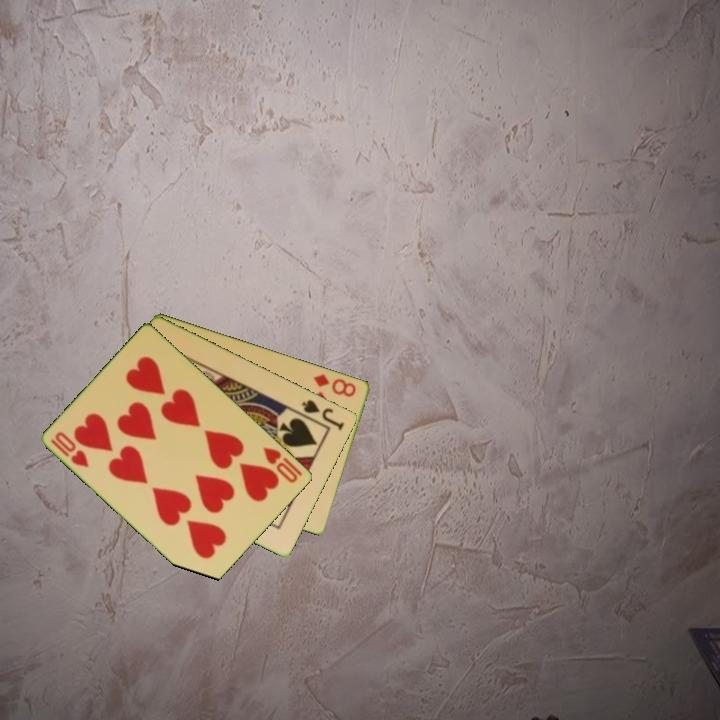10h: (47, 428, 92, 470), (259, 443, 301, 486)
8d: (310, 370, 359, 400)
Js: (298, 396, 347, 433)
